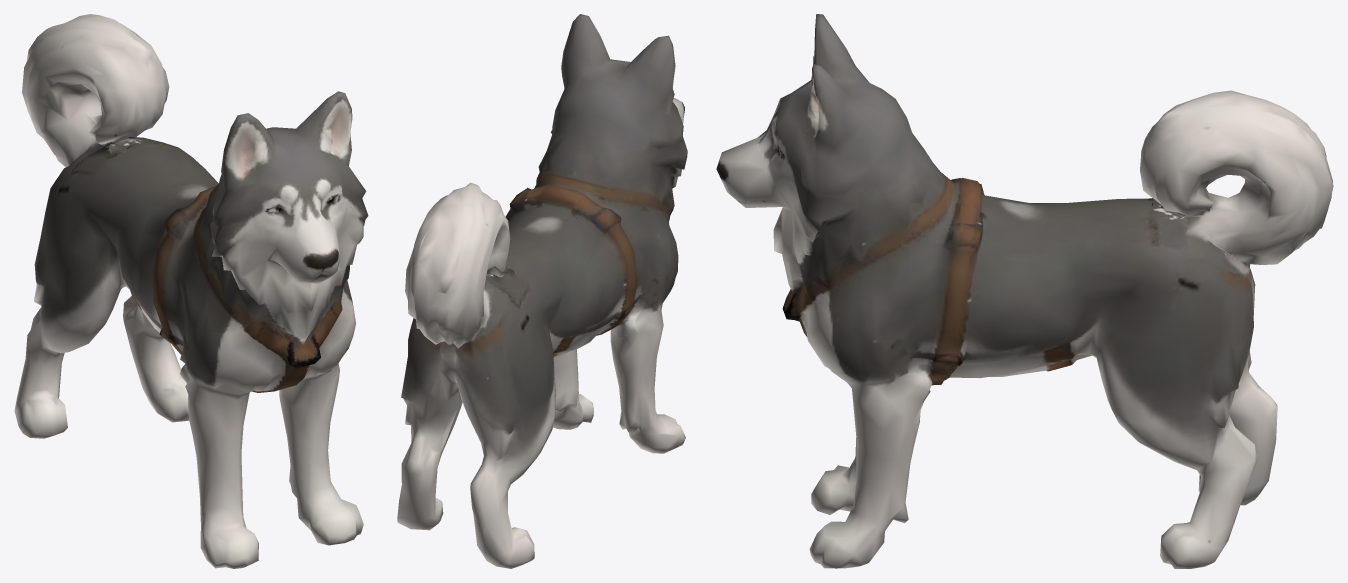
Rendered from detail_7_lo2.glb.
The picture shows the model from 3 angles, left to right: view 1: azimuth 30°, elevation 25°; view 2: azimuth 150°, elevation 25°; view 3: azimuth 270°, elevation 25°; orthographic projection. The views are drawn at different scales.
Parts seen in each view (by area): view 1: Mesh_0.001; view 2: Mesh_0.001; view 3: Mesh_0.001.
Part boxes in pixels (<box>): Mesh_0.001: <box>14,14,368,568</box>; Mesh_0.001: <box>397,14,687,568</box>; Mesh_0.001: <box>716,14,1333,568</box>.
Bounding box in the file's own units: 0.3359 × 0.8874 × 1.01.
1 material, 1 textured.
